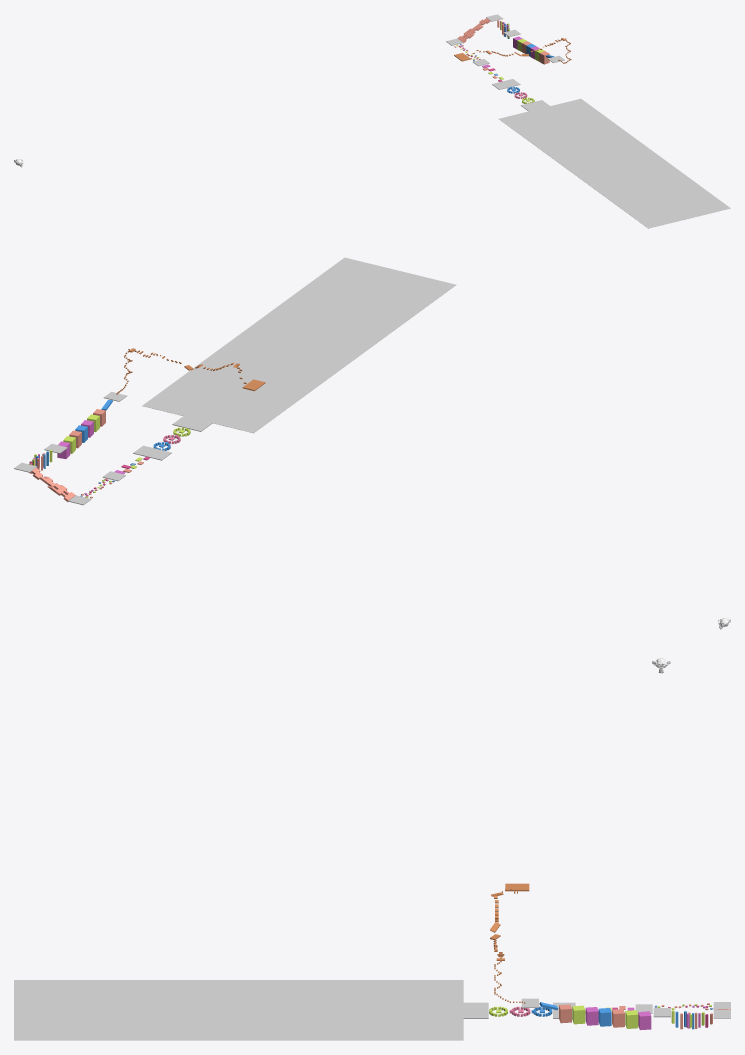
The picture shows the model from 3 angles, top to bottom: view 1: azimuth 30°, elevation 25°; view 2: azimuth 150°, elevation 25°; view 3: azimuth 270°, elevation 25°; orthographic projection. The views are drawn at different scales.
Parts seen in each view (by area): view 1: Box; view 2: Box; view 3: Box.
Part boxes in pixels (x1,y1,x2,y2): Box: (498, 98, 730, 228); Box: (142, 257, 456, 433); Box: (14, 980, 463, 1040).
Size of the model in its own units: 3538 by 402 by 2899.
